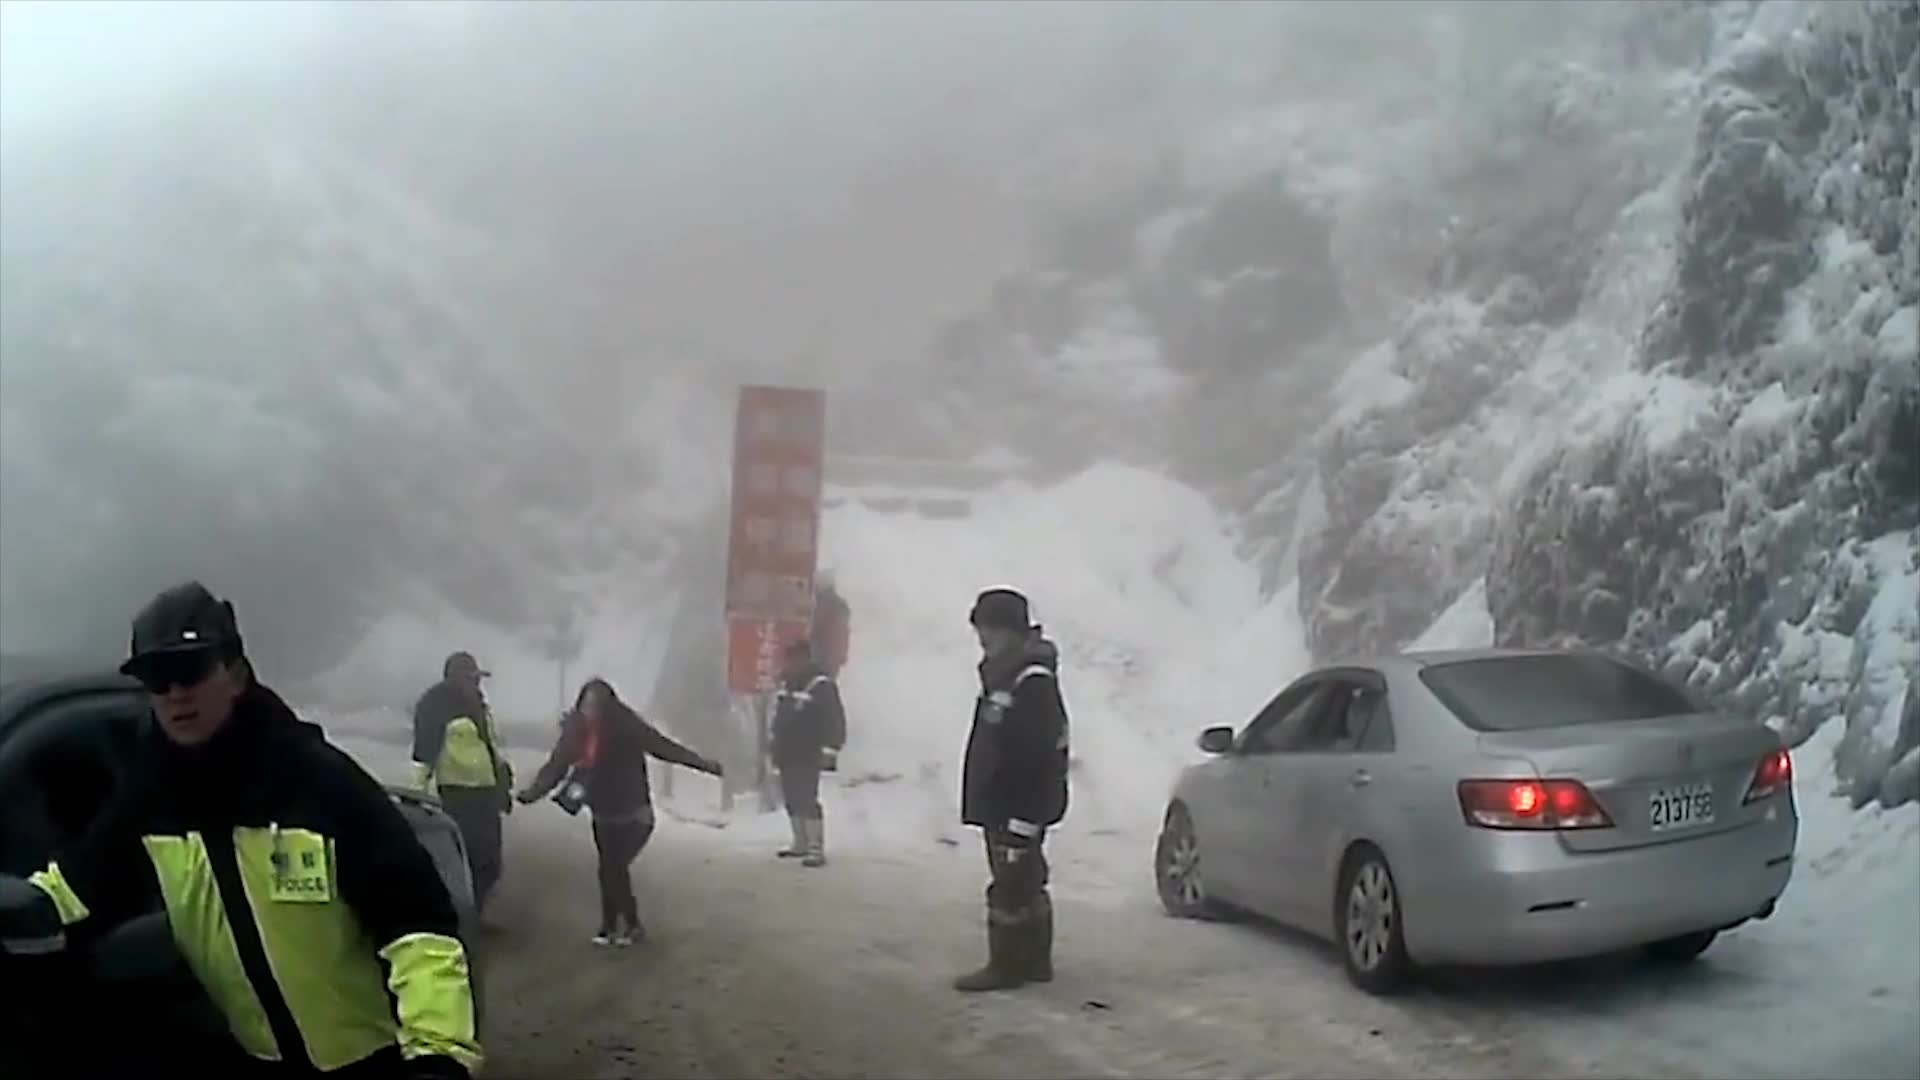pedestrian: (21, 578, 491, 1080), (522, 677, 719, 951), (939, 586, 1070, 991), (402, 647, 525, 933), (764, 638, 847, 865), (798, 564, 859, 753)
vehicle: (1151, 645, 1799, 993), (0, 655, 481, 1079)
